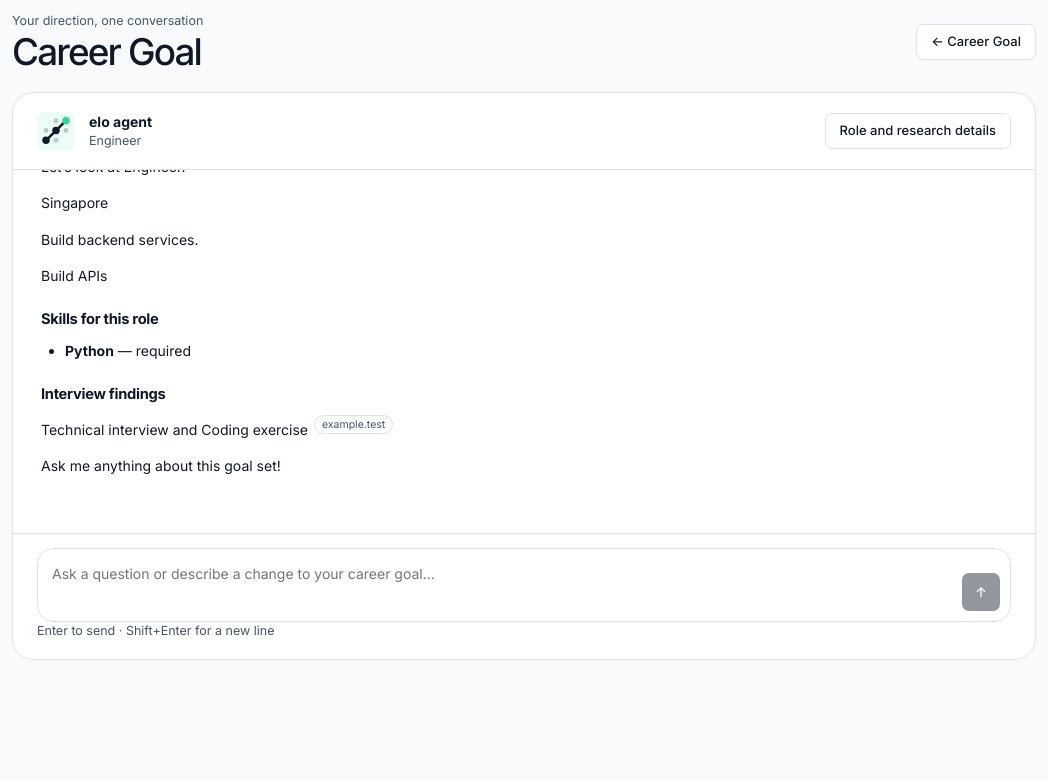
Scenario: single career conversation › sends session/version and bounded turns without resending raw JD
The width and height of the screenshot is (1048, 780).
(page scrolled)
Type "How should I prepare?" into the text box named "Message elo". click: (500, 585)
box: [48,558,952,611]
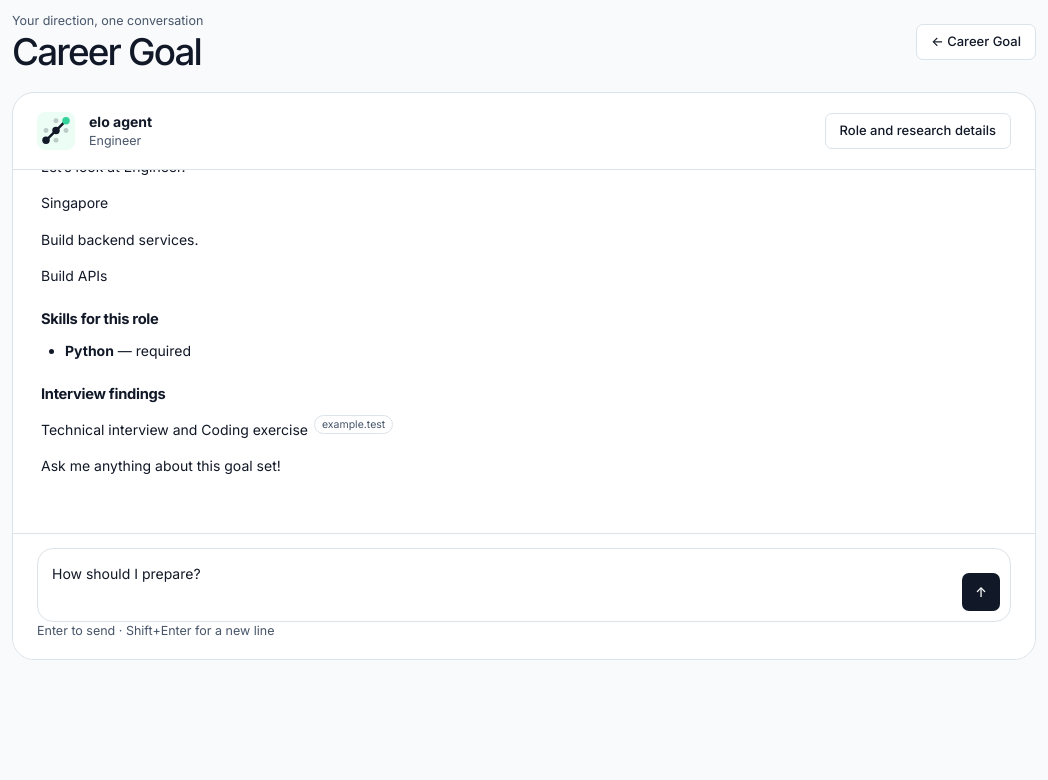
Click the button named "Send message". click: (981, 592)
box: [962,573,1000,611]
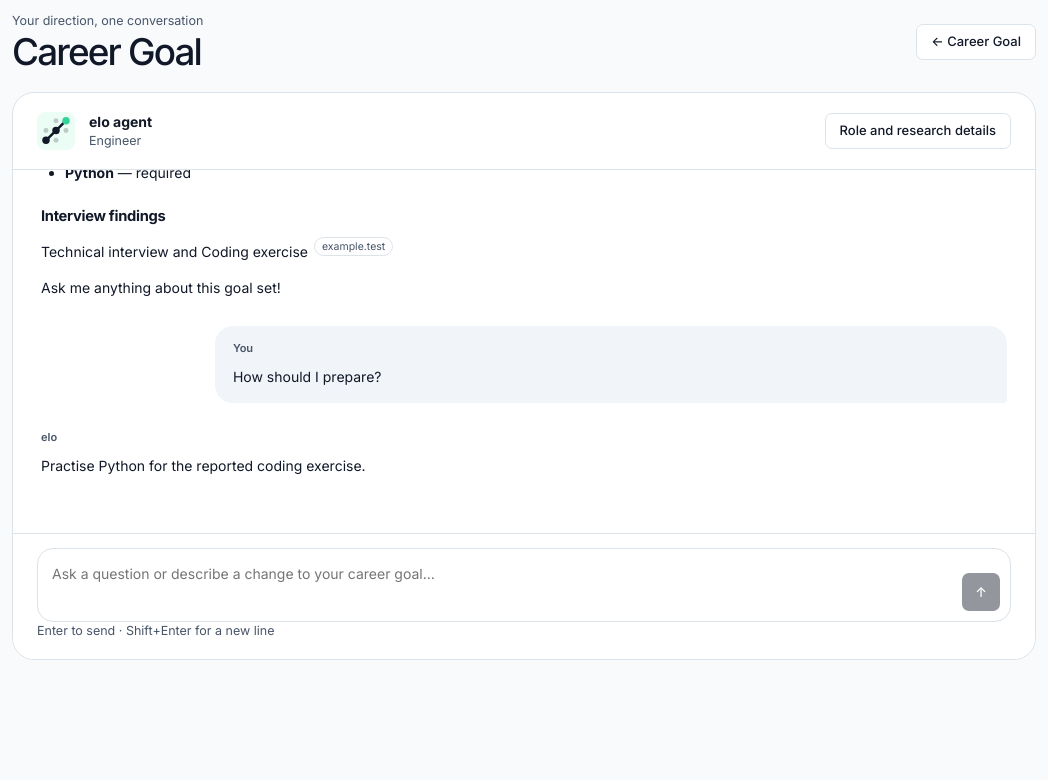
Expected: the text "Practise Python for the reported coding exercise." is shown, [41,457,366,474]
